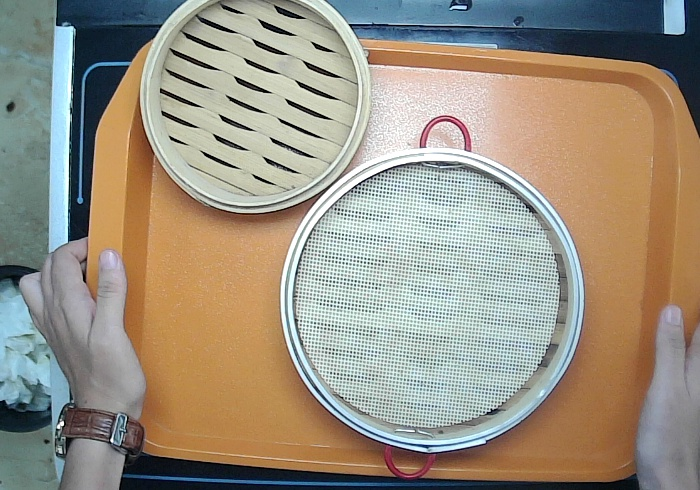ZNLD-Da_Zheng_Long: (280, 115, 586, 482)
ZNLD-Xiao_Zheng_Long: (139, 1, 372, 215)
